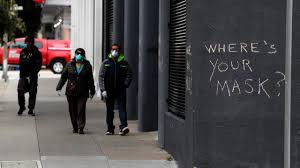mask: (108, 43, 120, 61), (20, 37, 33, 51), (73, 49, 83, 61)
